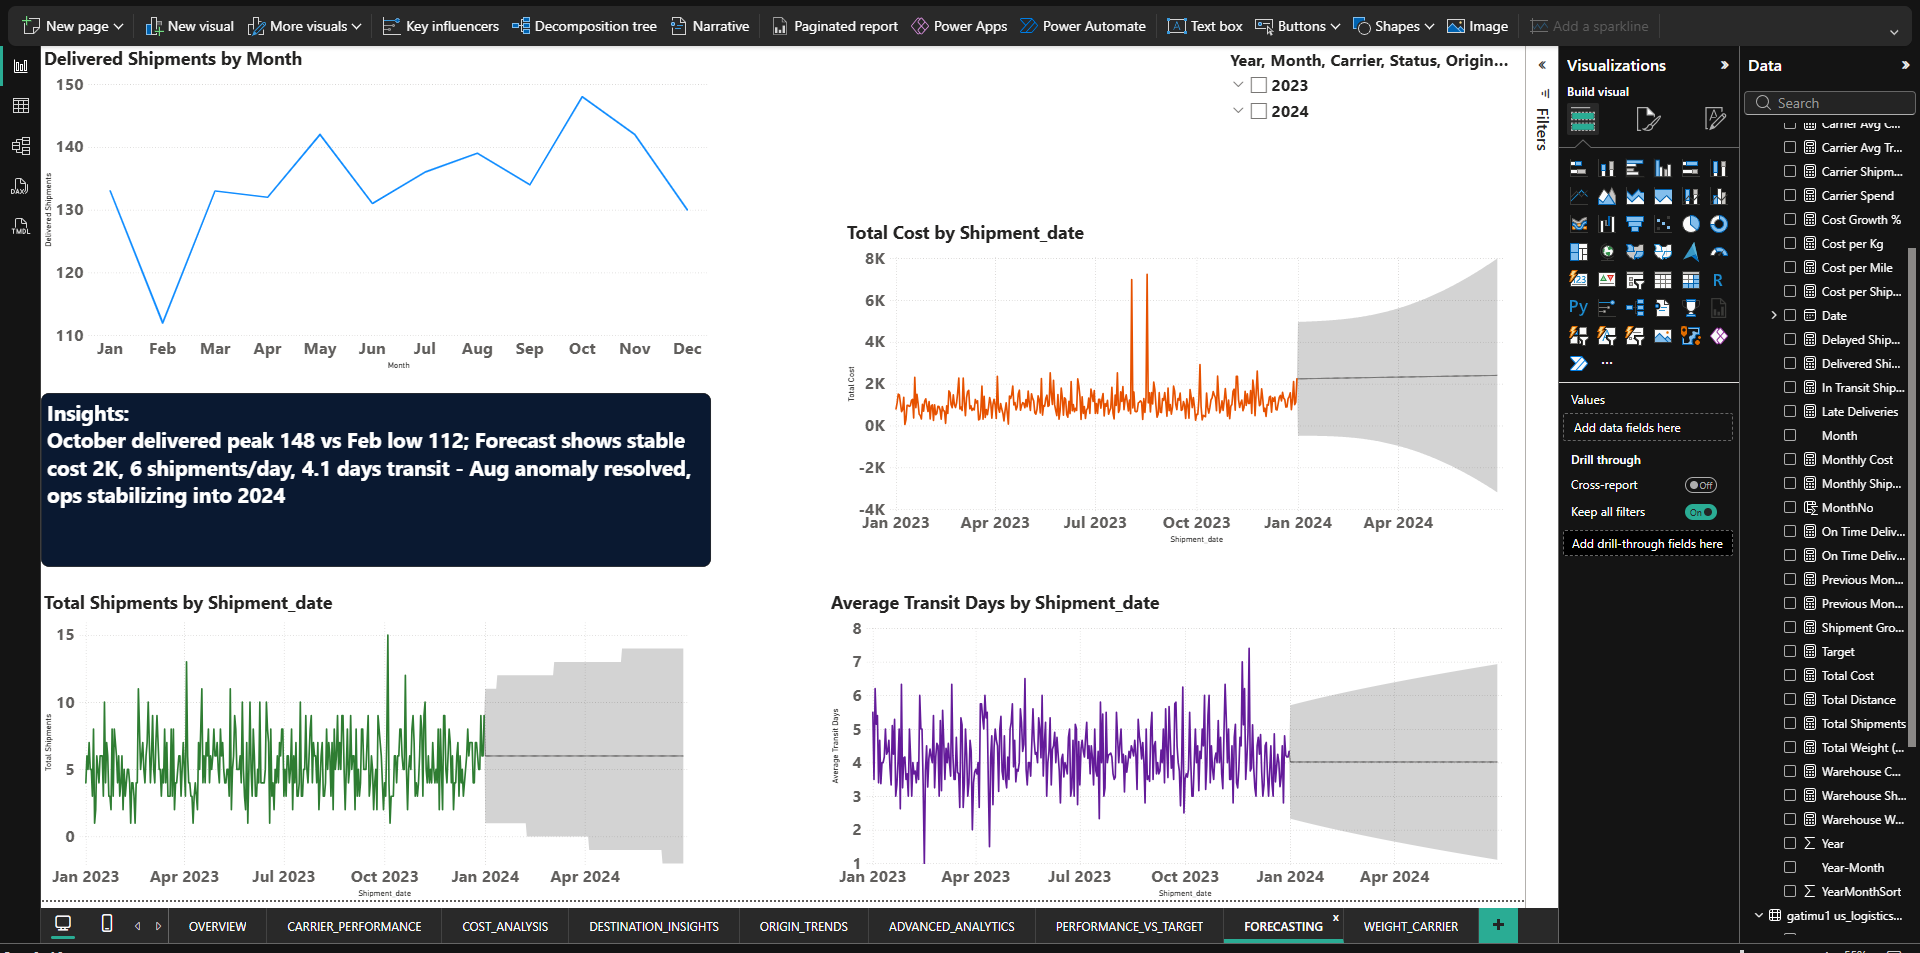

This screenshot's page, from the dashboard's own definition file:
{"tool":"powerbi","page":{"name":" FORECASTING","canvas":[2680,1542],"ordinal":7},"visuals":[{"type":"lineChart","fields":{"Category":["Calendar.Month"],"Y":["Calendar.Delivered Shipments"]},"box":[0,0,1210,588.7],"z":0},{"type":"lineChart","fields":{"Category":["gatimu1 us_logistics_shipments.Shipment_date"],"Y":["Calendar.Total Shipments"]},"box":[0,982.4,1210,559.8],"z":1000},{"type":"lineChart","fields":{"Category":["gatimu1 us_logistics_shipments.Shipment_date"],"Y":["Calendar.Total Cost"]},"box":[1450.2,314.2,1229.8,588.7],"z":2000},{"type":"lineChart","fields":{"Category":["gatimu1 us_logistics_shipments.Shipment_date"],"Y":["Calendar.Average Transit Days"]},"box":[1421.3,982.4,1258.7,559.8],"z":3000},{"type":"slicer","fields":{"Values":["Calendar.Year","Calendar.Month","gatimu1 us_logistics_shipments.Carrier","gatimu1 us_logistics_shipments.Status","gatimu1 us_logistics_shipments.Origin_warehouse","gatimu1 us_logistics_shipments.Destination"]},"box":[2134.6,0,545.4,274.5],"z":4000},{"type":"textbox","box":[0,626.7,1210,314],"z":5000}]}

Visuals, with their boxes on the page's 2680x1542 design canvas (x1, y1, x2, y2). These are canvas units, not pixel positions in the 1920x953 screenshot, which may show the page scaled, cropped or inside an application window:
lineChart - Calendar.Month x Calendar.Delivered Shipments: {"left": 0, "top": 0, "right": 1210, "bottom": 589}
lineChart - gatimu1 us_logistics_shipments.Shipment_date x Calendar.Total Shipments: {"left": 0, "top": 982, "right": 1210, "bottom": 1542}
lineChart - gatimu1 us_logistics_shipments.Shipment_date x Calendar.Total Cost: {"left": 1450, "top": 314, "right": 2680, "bottom": 903}
lineChart - gatimu1 us_logistics_shipments.Shipment_date x Calendar.Average Transit Days: {"left": 1421, "top": 982, "right": 2680, "bottom": 1542}
slicer - Calendar.Year x Calendar.Month: {"left": 2135, "top": 0, "right": 2680, "bottom": 274}
textbox: {"left": 0, "top": 627, "right": 1210, "bottom": 941}
